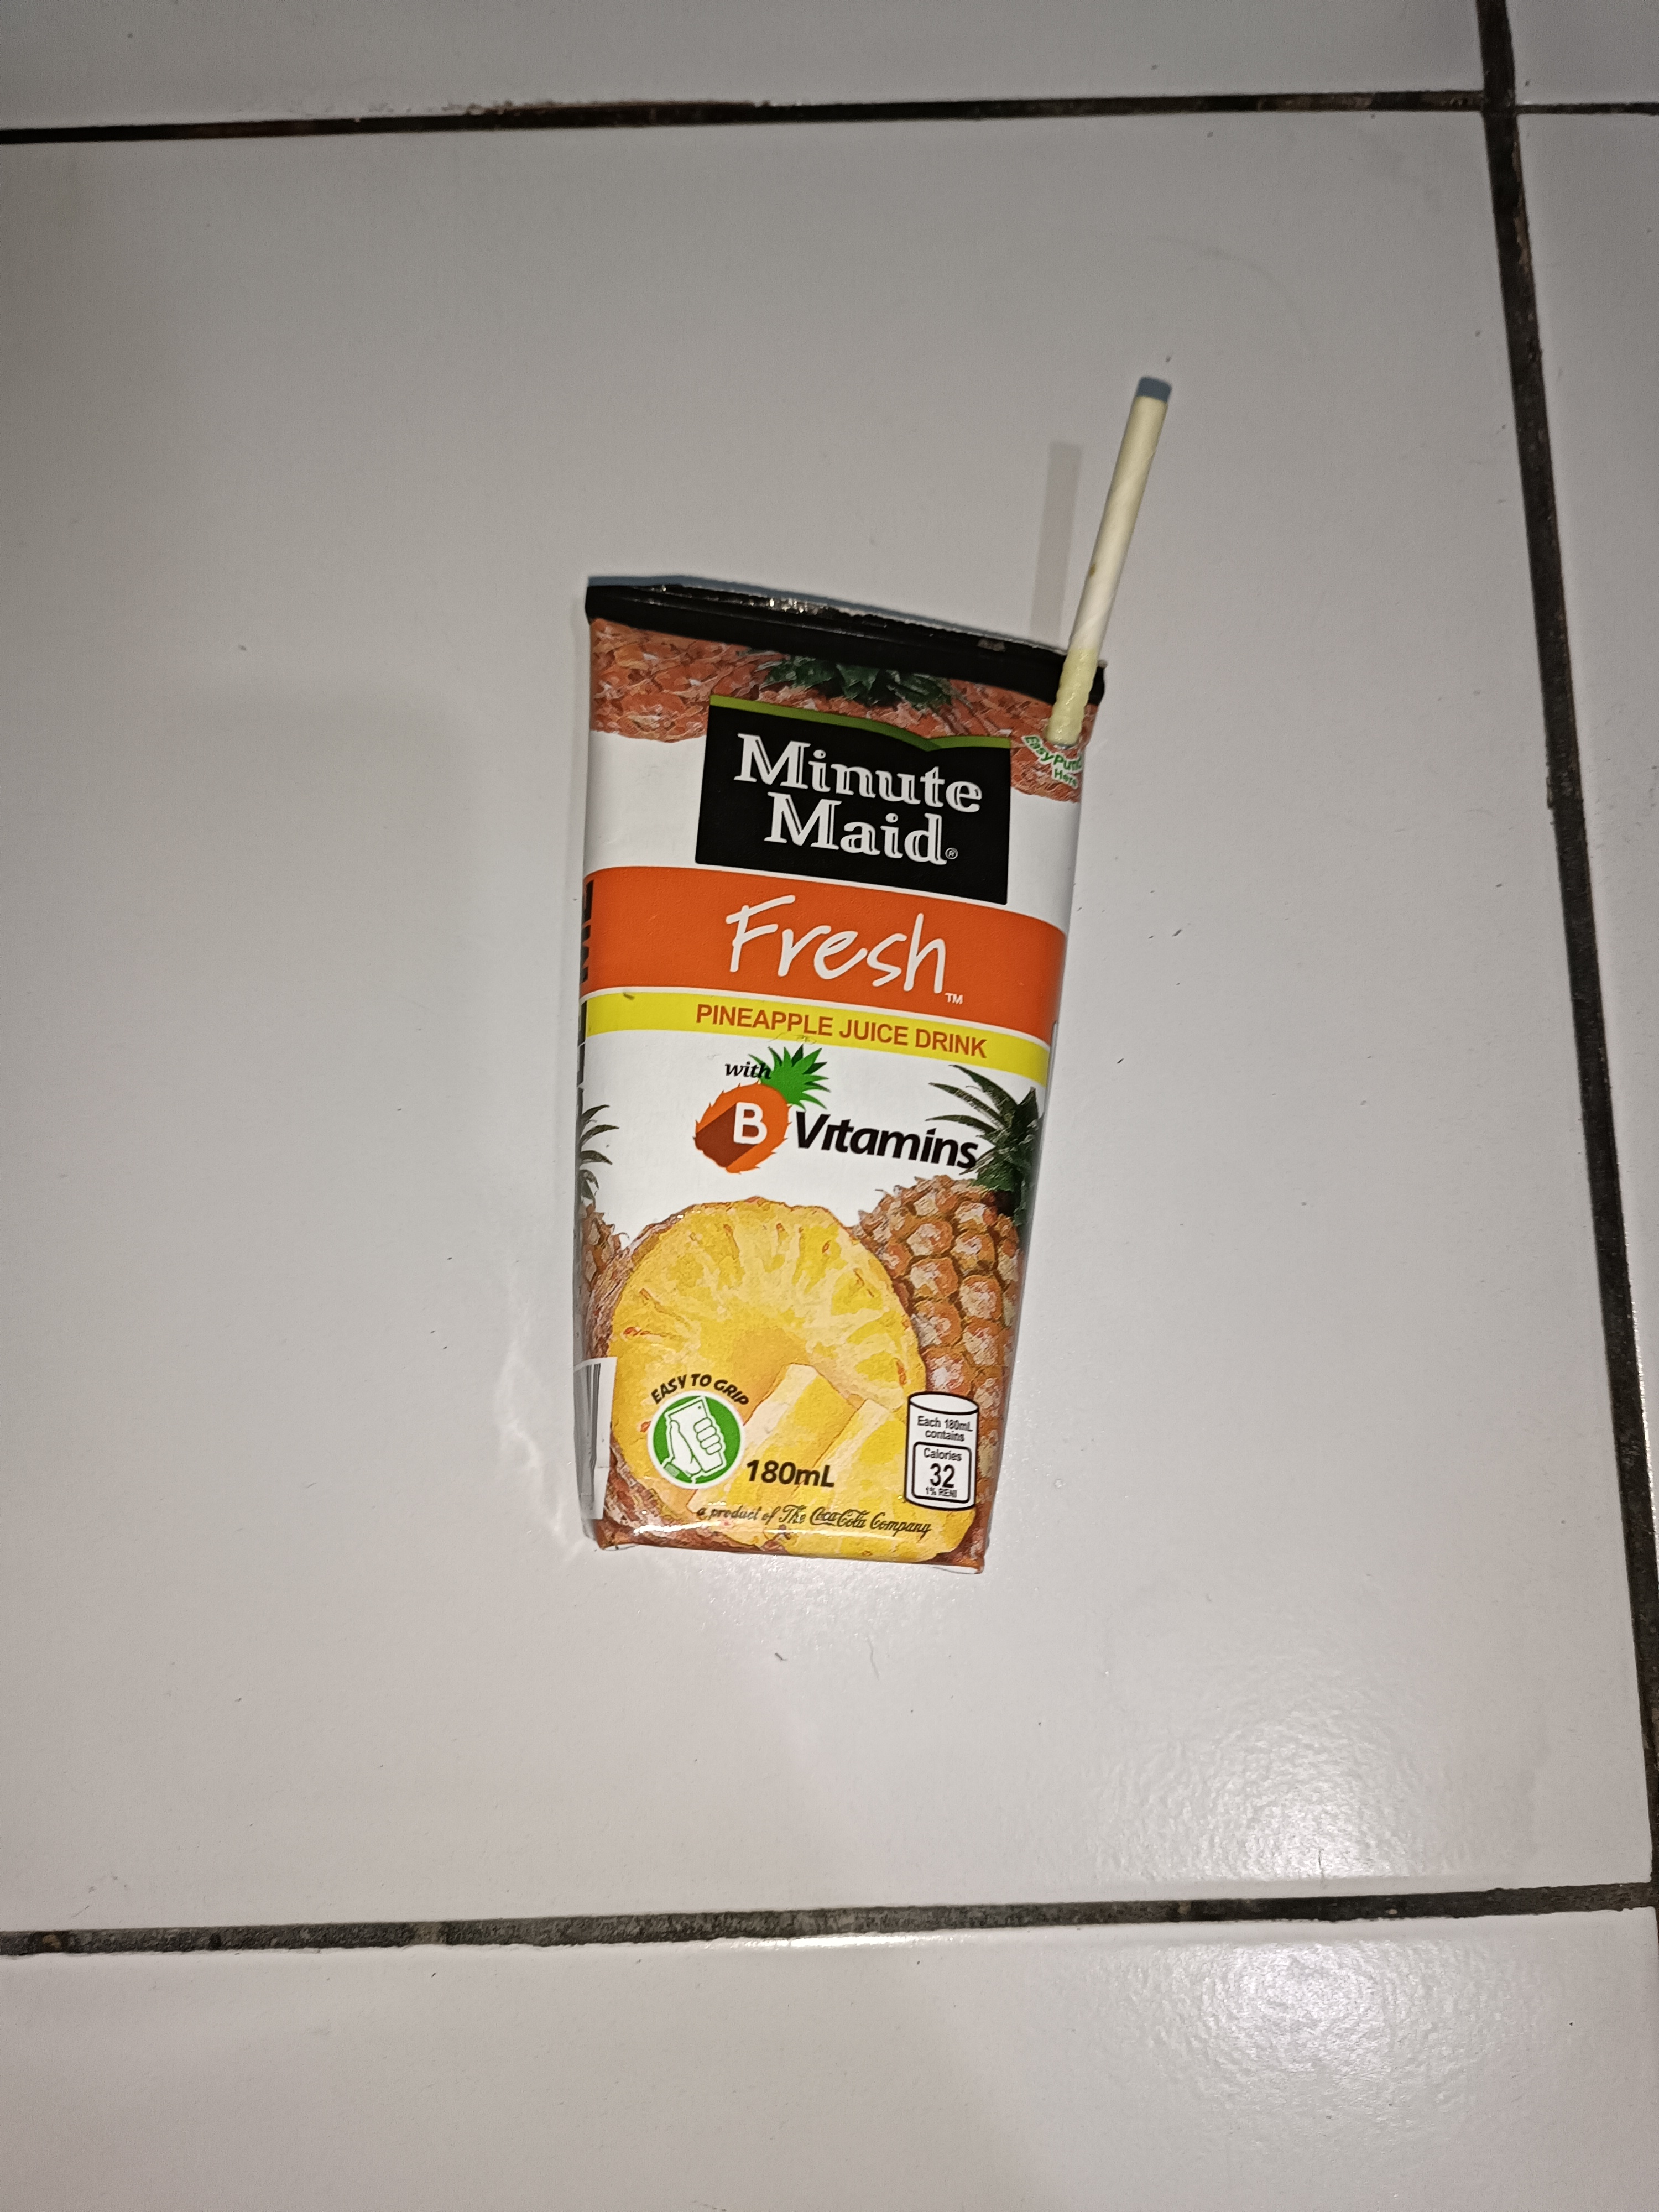Juice Box: (505, 343, 1183, 1618)
